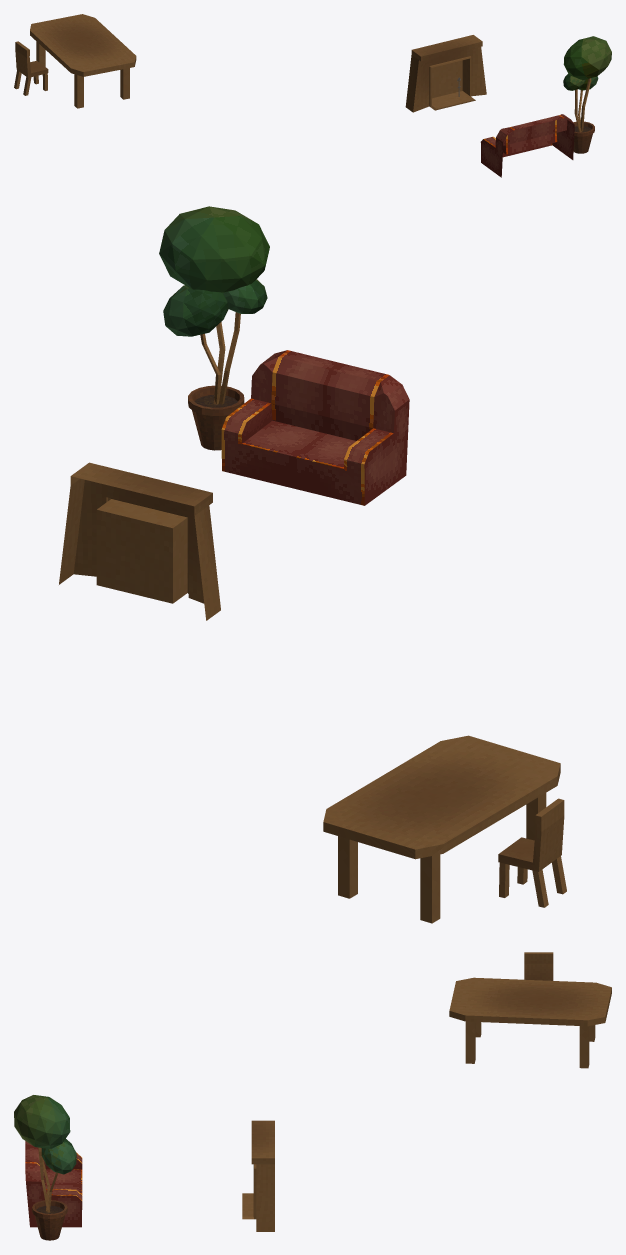
File: Seeker_Furniture1_kolishek.fbx
The picture shows the model from 3 angles, top to bottom: view 1: azimuth 30°, elevation 25°; view 2: azimuth 150°, elevation 25°; view 3: azimuth 270°, elevation 25°; orthographic projection. The views are drawn at different scales.
Visible parts, largest first — view 1: Стол, Камин, Диван, Цветок, Стул; view 2: Диван, Стол, Камин, Цветок, Стул; view 3: Стол, Цветок, Камин, Диван, Стул.
Boxes of the visible parts, bbox=[...] form: Стол: bbox=[30, 14, 136, 108]; Камин: bbox=[405, 35, 486, 112]; Диван: bbox=[480, 114, 574, 177]; Цветок: bbox=[563, 36, 611, 153]; Стул: bbox=[14, 41, 48, 95]; Диван: bbox=[221, 350, 409, 505]; Стол: bbox=[323, 735, 560, 923]; Камин: bbox=[59, 462, 220, 620]; Цветок: bbox=[159, 206, 269, 450]; Стул: bbox=[498, 798, 566, 907]; Стол: bbox=[449, 977, 611, 1068]; Цветок: bbox=[14, 1095, 76, 1240]; Камин: bbox=[242, 1120, 274, 1231]; Диван: bbox=[25, 1141, 82, 1227]; Стул: bbox=[524, 952, 553, 980].
Size of the model in its own units: 681 by 189 by 718.
